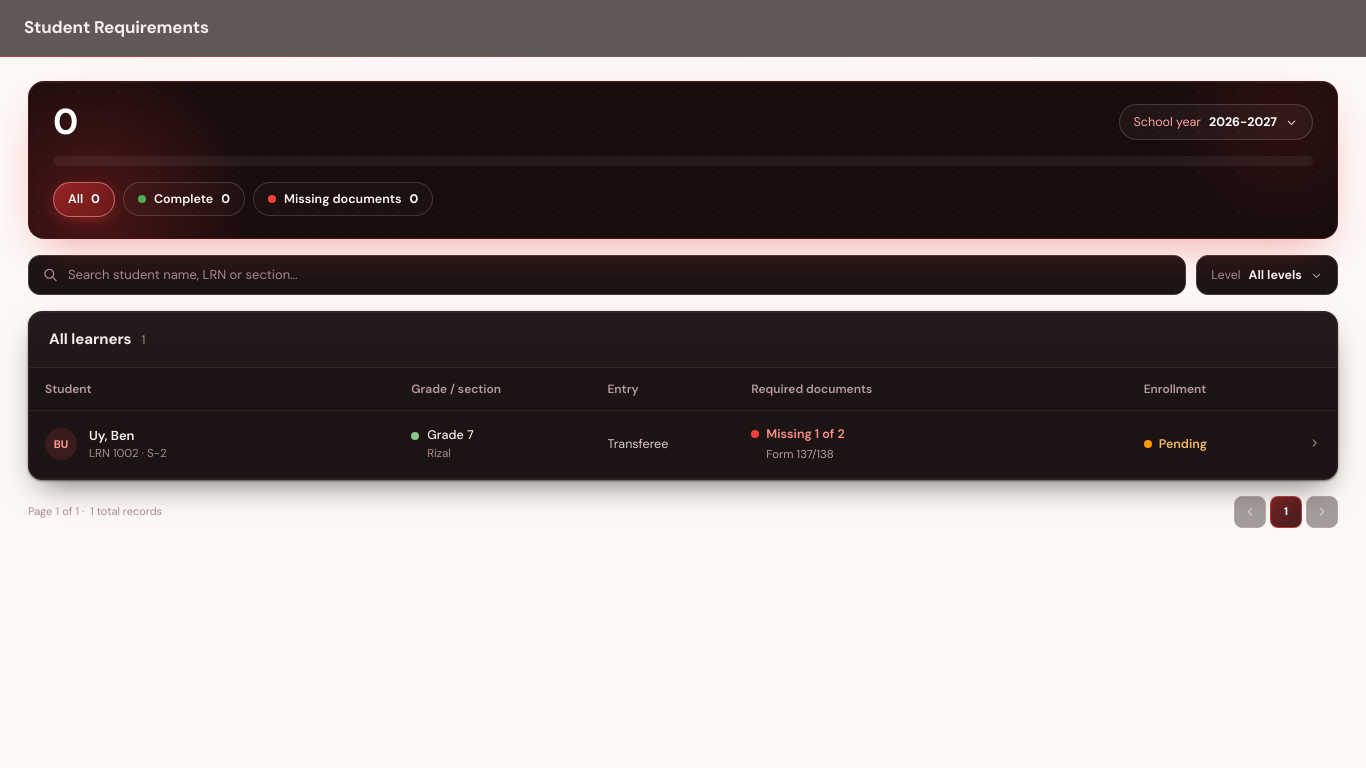
Test: RequirementsPage — dark mode › shows a submitted document in the viewer
Click the text "Uy, Ben" at (112, 435), box x1=89 y1=427 x2=134 y2=444
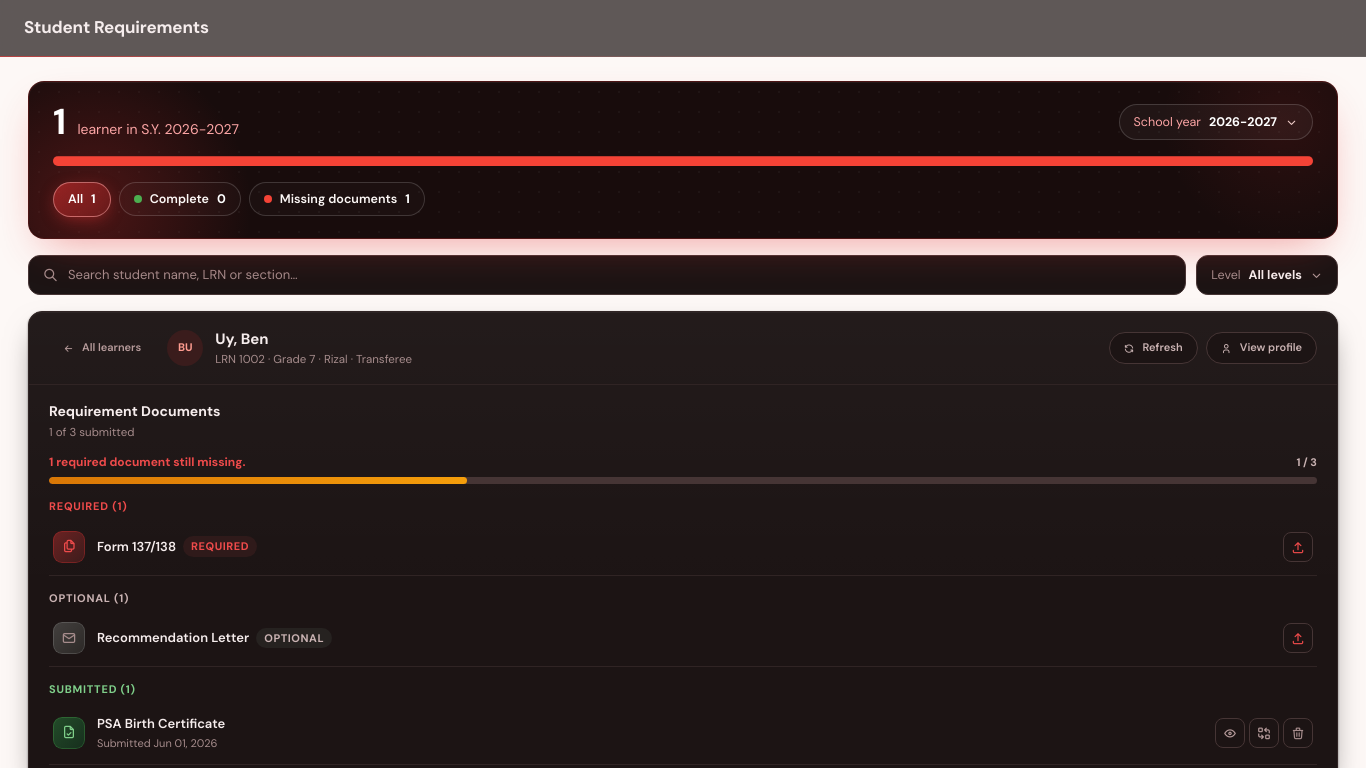
expect the text "Required (1)" is shown: met, box x1=49 y1=499 x2=127 y2=513
Click the button titled "View" at (1230, 733), box x1=1215 y1=718 x2=1245 y2=748
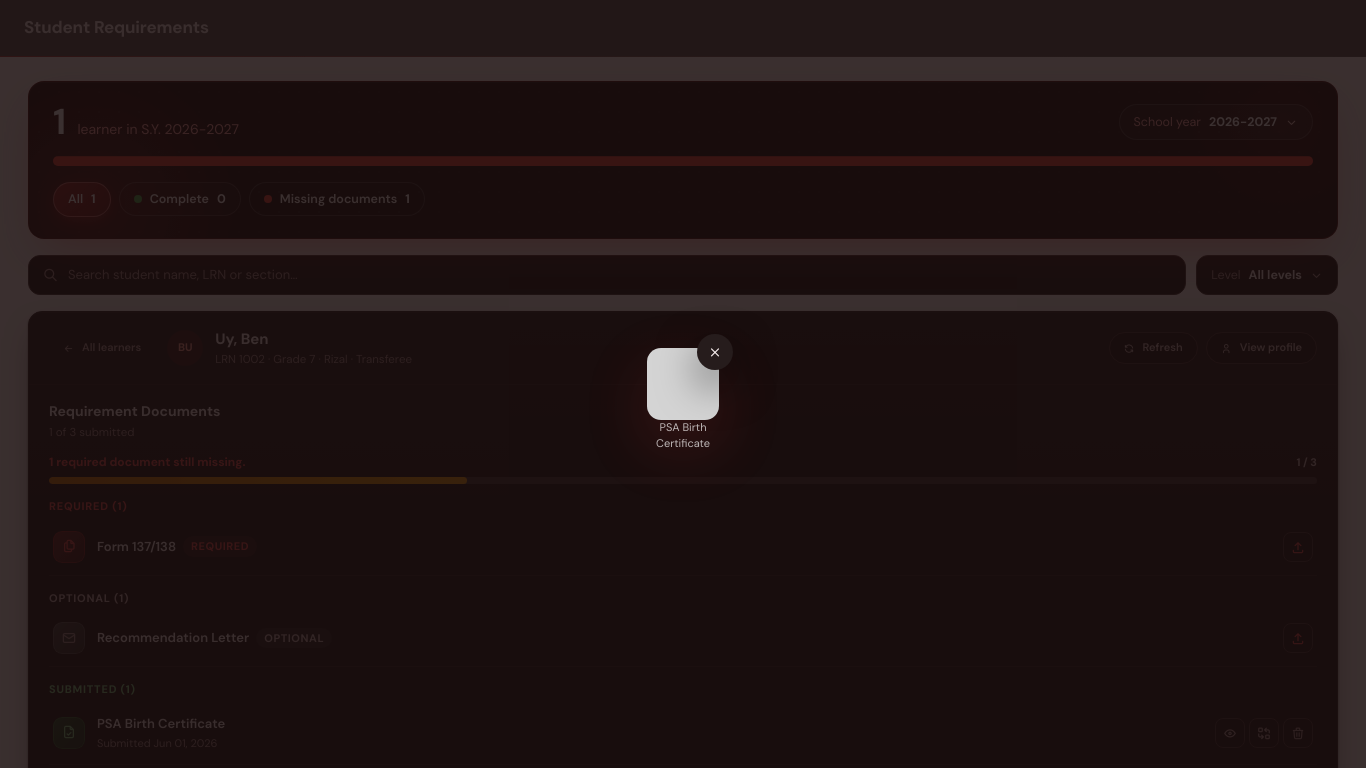
expect the button named "Close" is shown: met, box x1=697 y1=334 x2=733 y2=370
